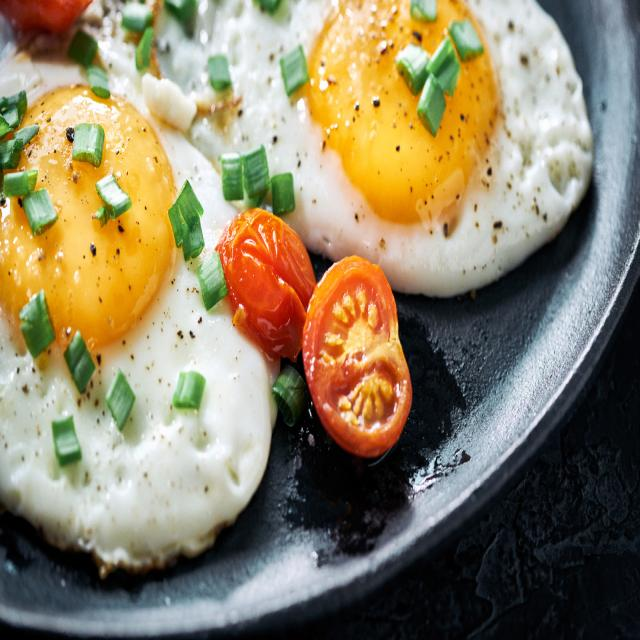Egg: (0, 7, 279, 573), (156, 0, 592, 296)
